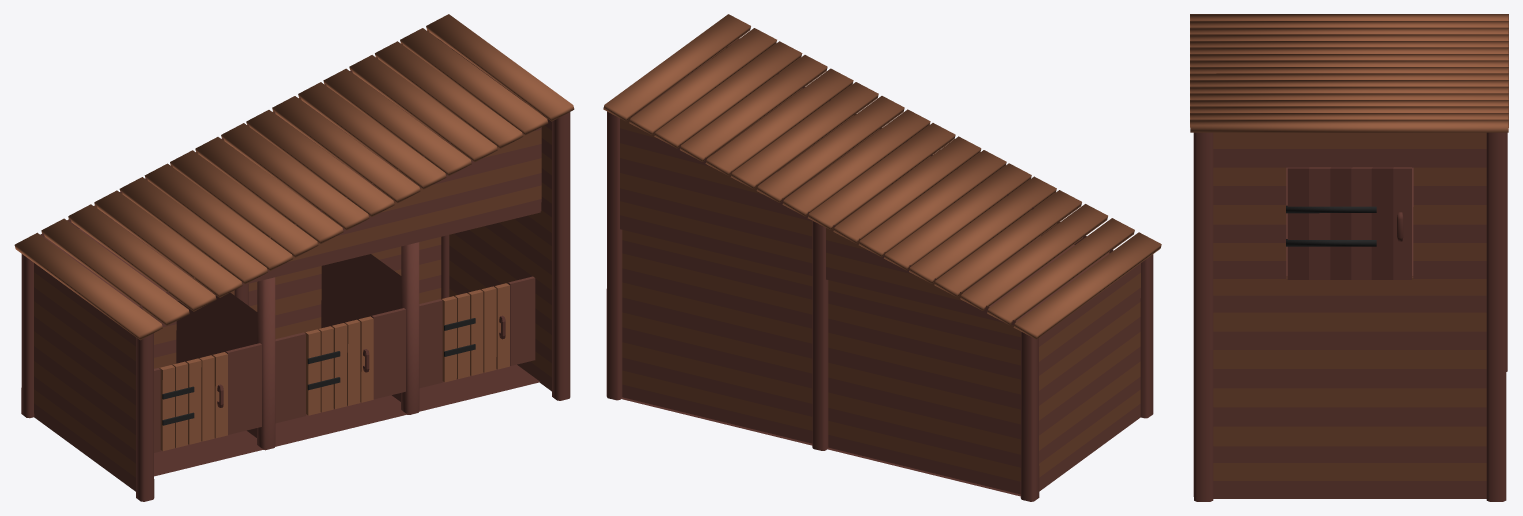
Rendered from stable_lowpoly.fbx.
3 views of the same model, side by side, from view 1: azimuth 30°, elevation 25°; view 2: azimuth 150°, elevation 25°; view 3: azimuth 270°, elevation 25° (orthographic). The views are drawn at different scales.
Visible parts, largest first — view 1: stable, wall, door_1, door_3, door_2; view 2: stable; view 3: stable, dore_4.
Boxes of the visible parts, box(x1,y1,x2,y2) form: stable: box(14, 14, 574, 501); wall: box(154, 276, 535, 452); door_1: box(159, 352, 227, 451); door_3: box(441, 283, 509, 382); door_2: box(305, 316, 373, 415); stable: box(603, 14, 1161, 501); stable: box(1190, 14, 1508, 501); dore_4: box(1286, 167, 1411, 279).
Size of the model in its own units: 317 by 205 by 157.
